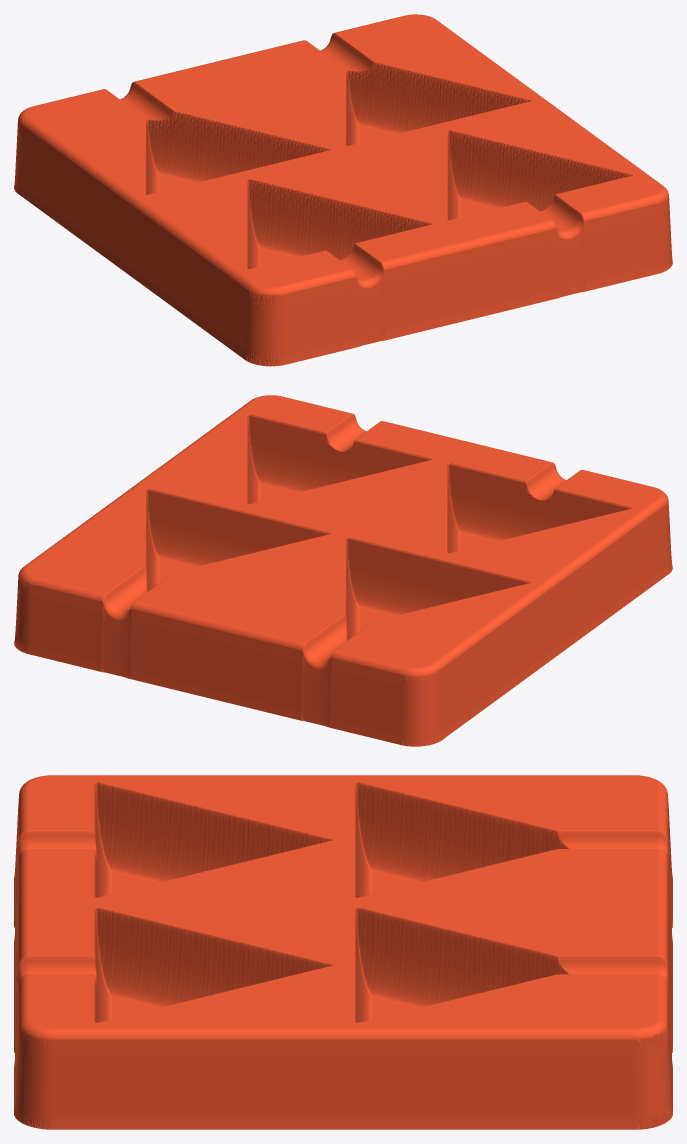
The model's file is mold.glb.
3 views of the same model, one above another, from view 1: azimuth 30°, elevation 25°; view 2: azimuth 150°, elevation 25°; view 3: azimuth 270°, elevation 25° (orthographic). The views are drawn at different scales.
Parts seen in each view (by area): view 1: geometry_0; view 2: geometry_0; view 3: geometry_0.
Boxes of the visible parts, x1,y1,x2,y2 form: geometry_0: [14, 14, 672, 366]; geometry_0: [14, 395, 672, 746]; geometry_0: [14, 775, 672, 1129].
Size of the model in its own units: 0.1468 by 0.0245 by 0.1542.
